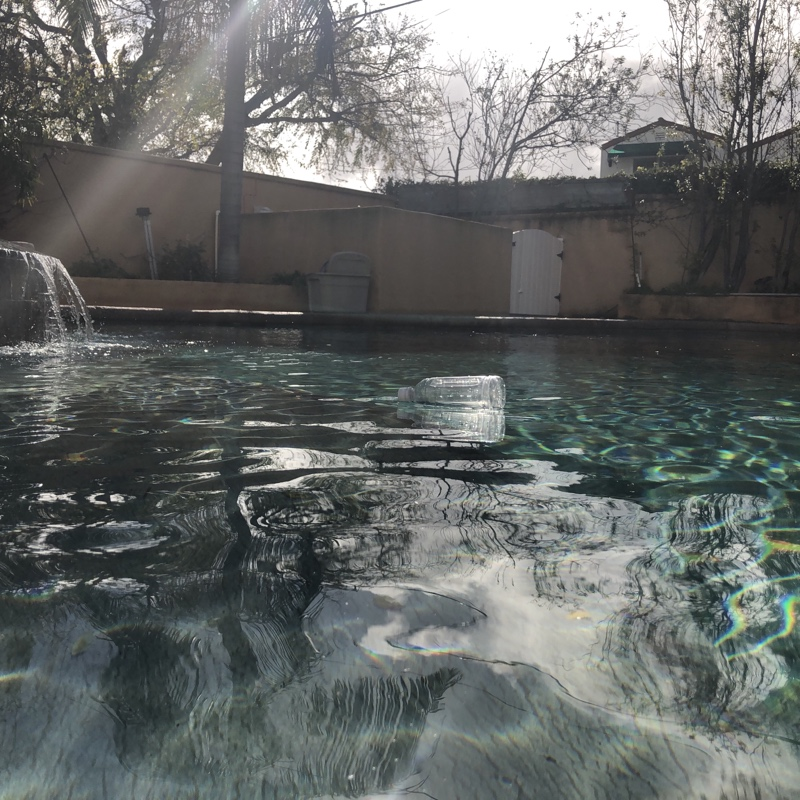Plastic Bottle: (393, 371, 510, 412)
